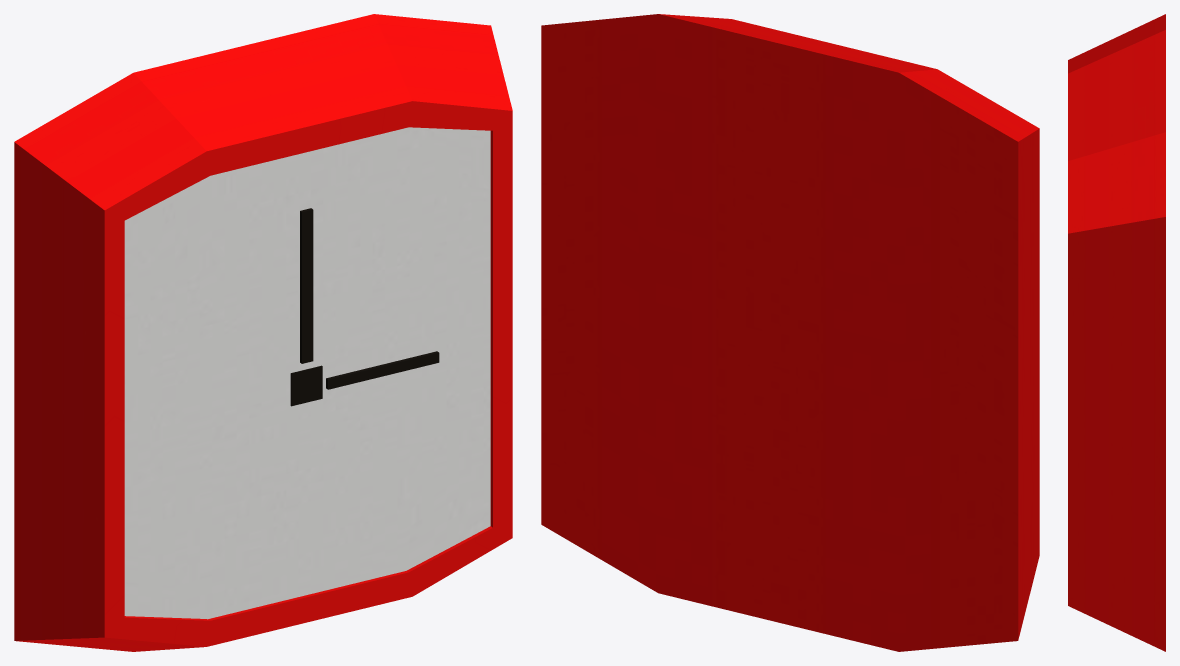
The model's file is WallClock.fbx.
3 views of the same model, side by side, from view 1: azimuth 30°, elevation 25°; view 2: azimuth 150°, elevation 25°; view 3: azimuth 270°, elevation 25° (orthographic). The views are drawn at different scales.
Parts seen in each view (by area): view 1: Cube, Cube.003, Cube.012; view 2: Cube.003; view 3: Cube.003.
Boxes of the visible parts, x1,y1,x2,y2 form: Cube: [124, 127, 490, 619]; Cube.003: [14, 14, 512, 651]; Cube.012: [290, 208, 439, 406]; Cube.003: [541, 14, 1039, 651]; Cube.003: [1068, 14, 1165, 651].
Bounding box in the file's own units: 272 × 315 × 55.27.
